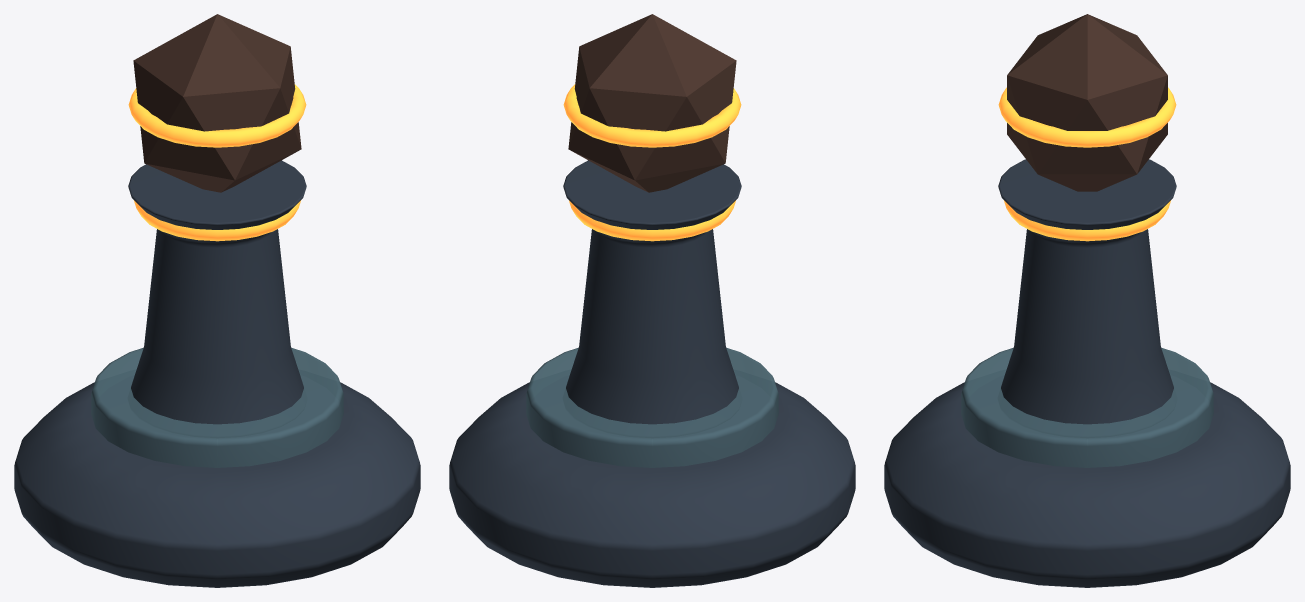
The picture shows the model from 3 angles, left to right: view 1: azimuth 30°, elevation 25°; view 2: azimuth 150°, elevation 25°; view 3: azimuth 270°, elevation 25°; orthographic projection.
Visible parts, largest first — view 1: SciFi_p_b; view 2: SciFi_p_b; view 3: SciFi_p_b.
Boxes of the visible parts, box(x1,y1,x2,y2) form: SciFi_p_b: box(14, 14, 420, 587); SciFi_p_b: box(449, 14, 855, 587); SciFi_p_b: box(884, 14, 1290, 587).
Size of the model in its own units: 0.58 by 0.78 by 0.58.
